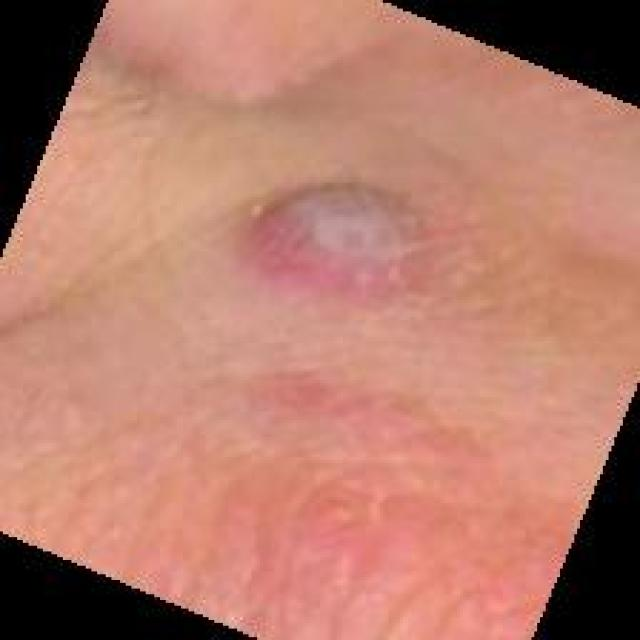monkeypox: (88, 32, 532, 620)
